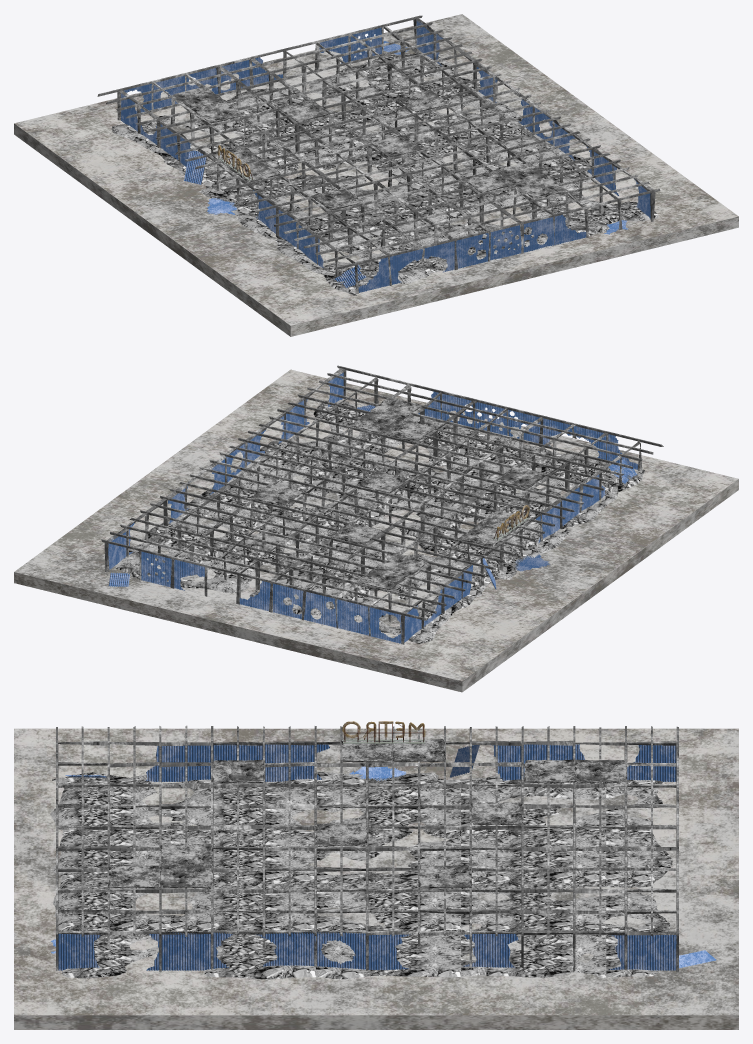
Rendered from ruined_donetsk_airport_metro_store_winter.glb.
3 renders of one model, top to bottom at view 1: azimuth 30°, elevation 25°; view 2: azimuth 150°, elevation 25°; view 3: azimuth 270°, elevation 25°, orthographic. The views are drawn at different scales.
Visible parts, largest first — view 1: Cube.004_2, Cube.001_0, Plane.021_10, Plane.019_9, Cube.011_3; view 2: Cube.004_2, Cube.001_0, Plane.021_10, Plane.019_9, Cube.011_3; view 3: Cube.004_2, Plane.021_10, Cube.001_0, Plane.019_9, Cube.011_3, Text_dmg_12.
Boxes of the visible parts, x1=… form: Cube.004_2: x1=14, y1=14, x2=738, y2=336; Cube.001_0: x1=97, y1=15, x2=660, y2=293; Plane.021_10: x1=111, y1=53, x2=658, y2=295; Plane.019_9: x1=121, y1=20, x2=650, y2=292; Cube.011_3: x1=173, y1=86, x2=568, y2=210; Cube.004_2: x1=14, y1=369, x2=738, y2=692; Cube.001_0: x1=101, y1=365, x2=663, y2=644; Plane.021_10: x1=114, y1=399, x2=644, y2=643; Plane.019_9: x1=107, y1=372, x2=638, y2=643; Cube.011_3: x1=250, y1=396, x2=546, y2=589; Cube.004_2: x1=14, y1=728, x2=738, y2=1029; Plane.021_10: x1=50, y1=772, x2=672, y2=979; Cube.001_0: x1=56, y1=725, x2=678, y2=972; Plane.019_9: x1=51, y1=744, x2=715, y2=970; Cube.011_3: x1=108, y1=739, x2=627, y2=888; Text_dmg_12: x1=342, y1=721, x2=425, y2=738.
Bounding box in the file's own units: 107 × 13.25 × 115.
Materials: 9 (8 with a texture image).
